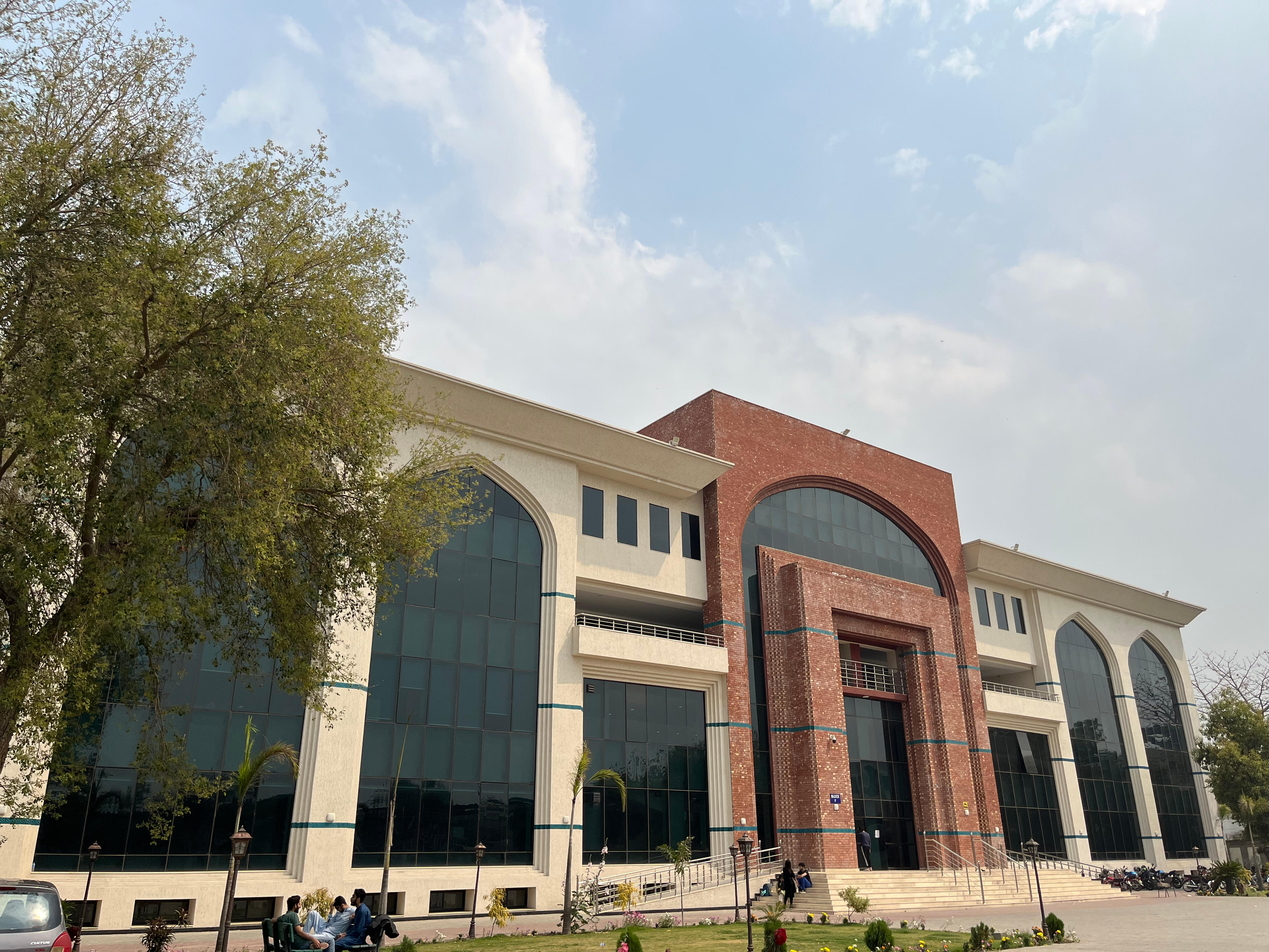Block F: (0, 293, 1238, 926)
